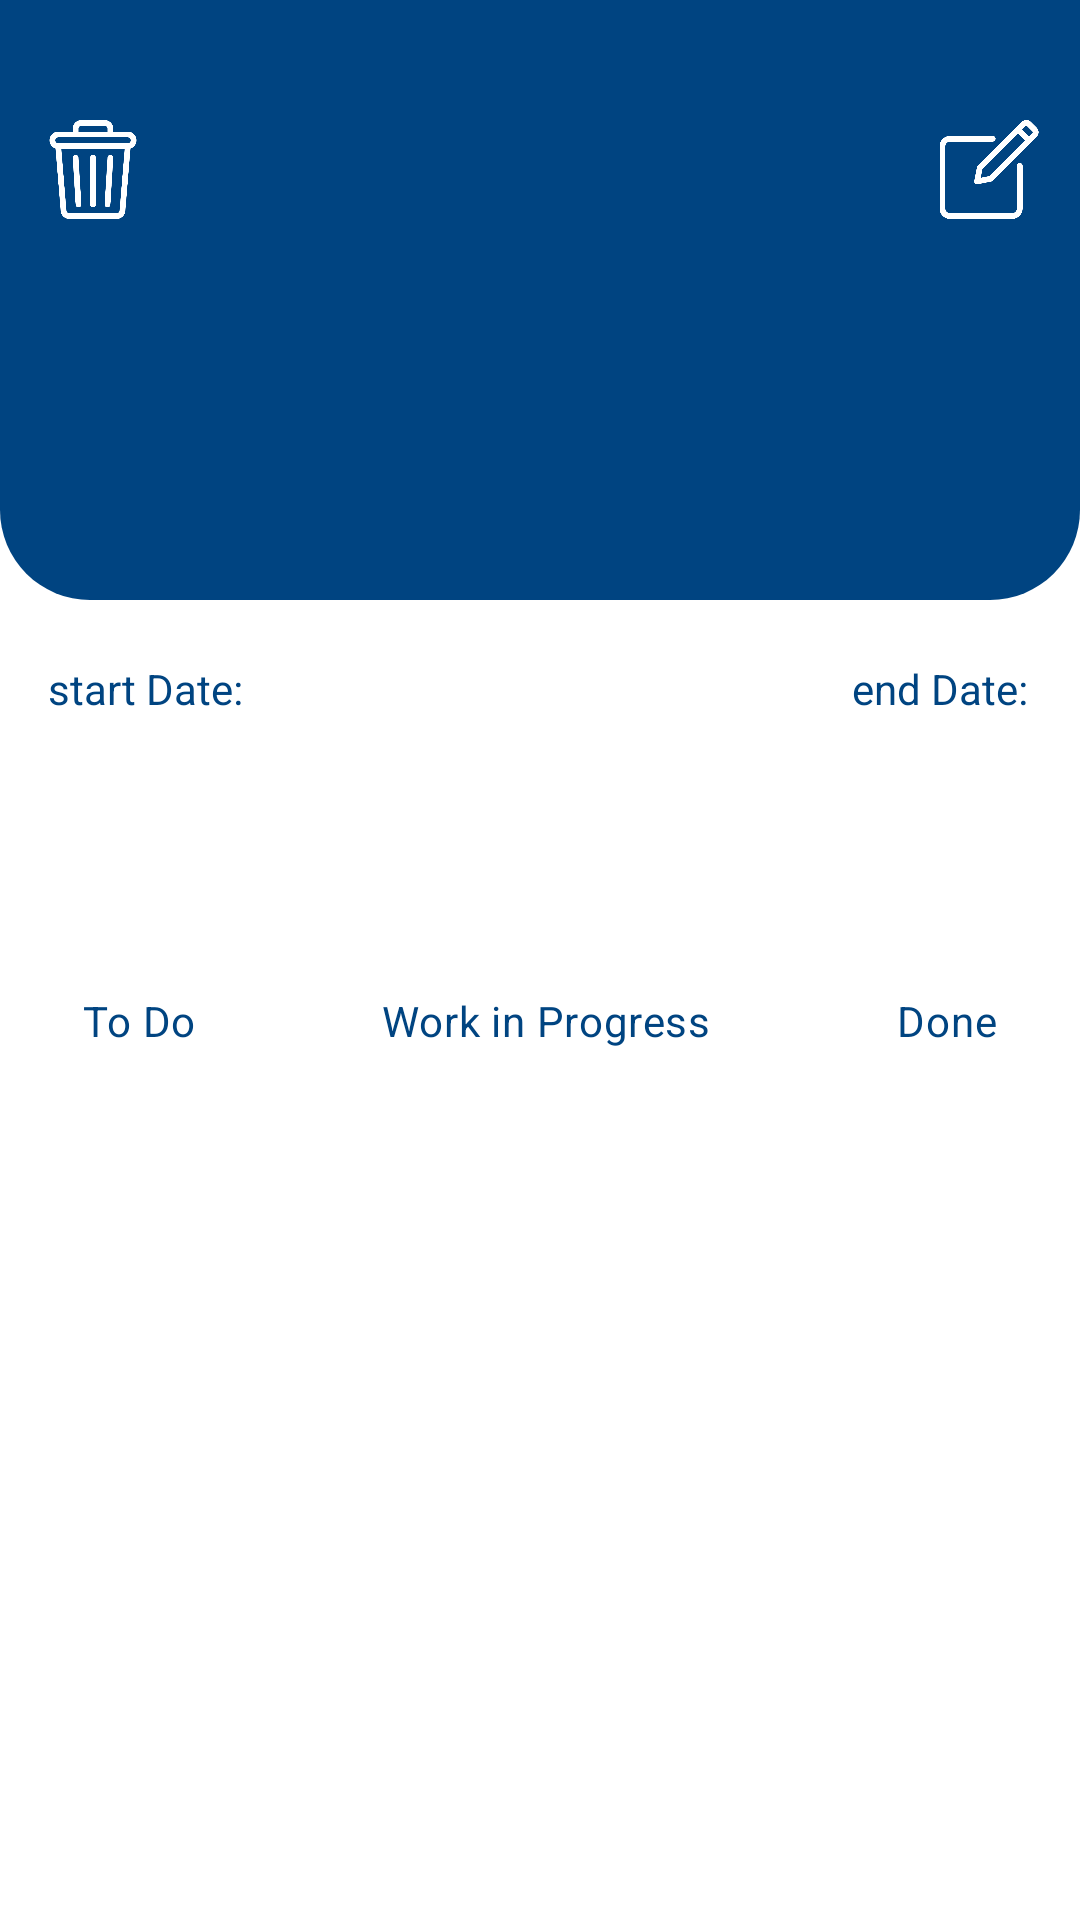

Locate icon controls on the screen. Image size 1080w x 1920h, boxes as (x1, y1, x2, y2).
bin: (49, 120, 137, 219)
editing: (940, 120, 1039, 219)
